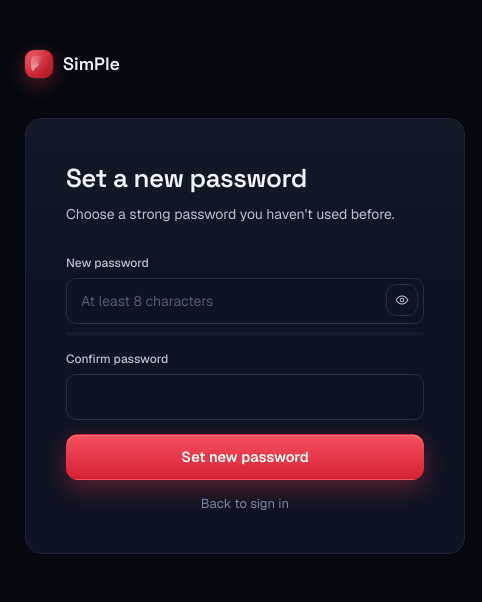
ResetPasswordPage › shows error when password is too weak on submit
Type "abc" into the password field with placeholder "At least 8 characters" at (245, 301), box [66,278,424,324]
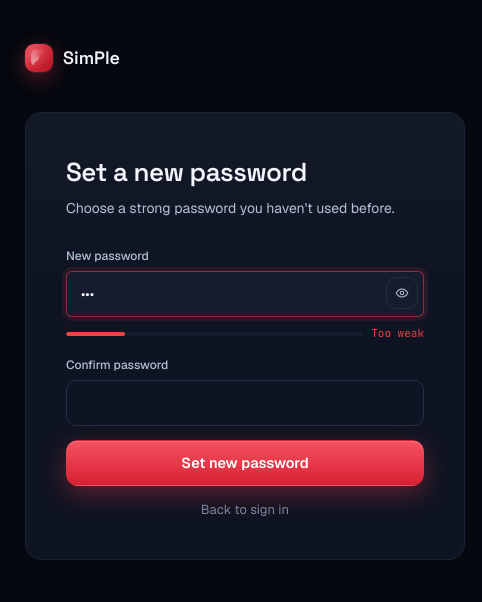
Submit the form named "set new password", box [66,153,424,519]
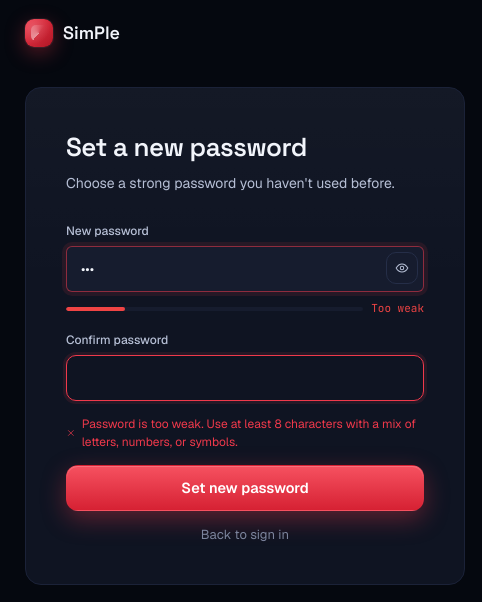
Result: the text "Password is too weak" is shown at [82,416,416,450]
